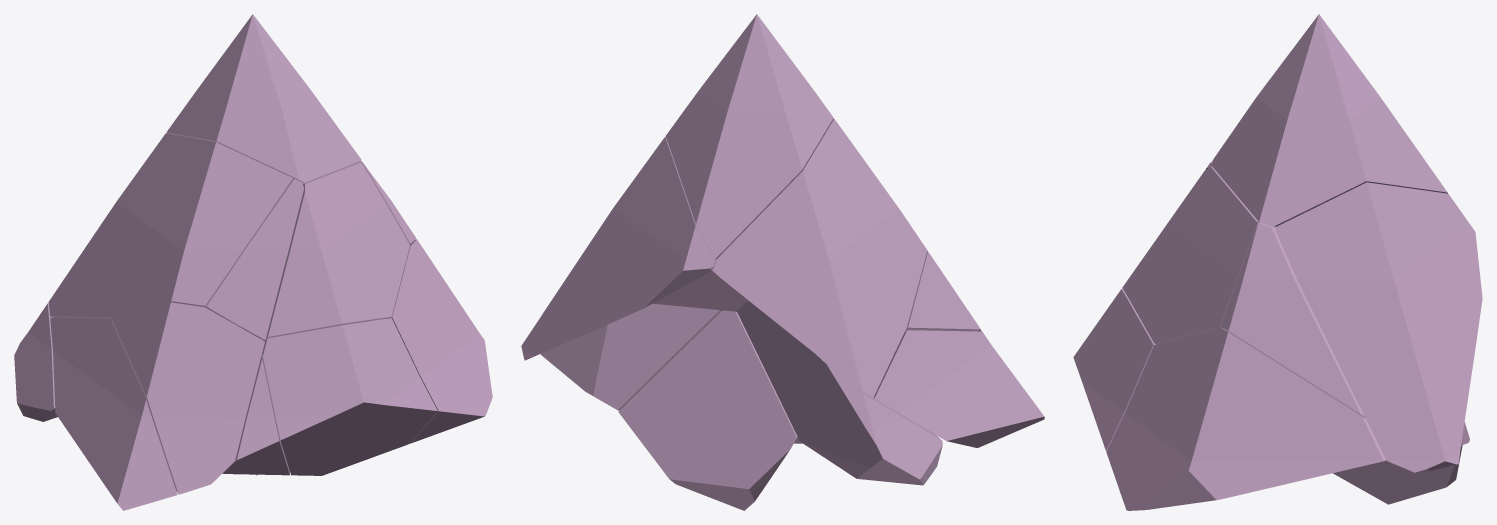
File: crystal_top.fbx
3 renders of one model, left to right at view 1: azimuth 30°, elevation 25°; view 2: azimuth 150°, elevation 25°; view 3: azimuth 270°, elevation 25°, orthographic. The views are drawn at different scales.
Visible parts, largest first — view 1: Crystal_piece_top; view 2: Crystal_piece_top; view 3: Crystal_piece_top.
Part boxes in pixels (x1,y1,x2,y2): Crystal_piece_top: (14,14,492,510); Crystal_piece_top: (521,14,1044,510); Crystal_piece_top: (1073,14,1482,510).
Bounding box in the file's own units: 66.44 × 73.14 × 54.14.
